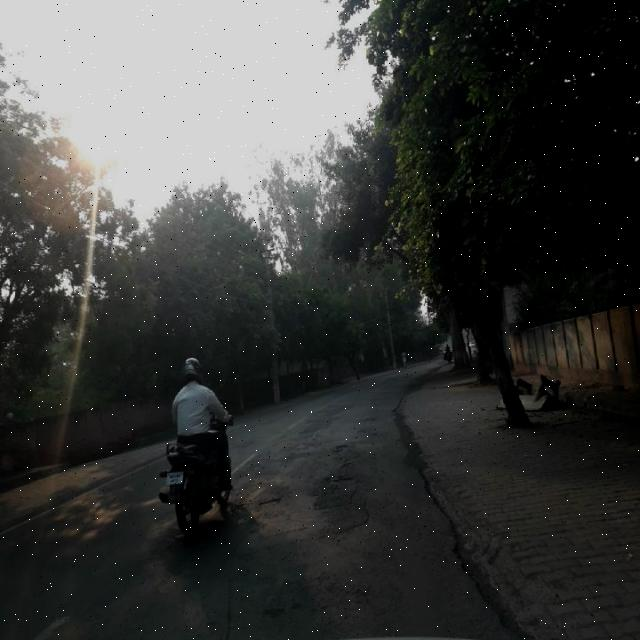D00: (454, 541, 524, 633), (420, 465, 456, 537)
